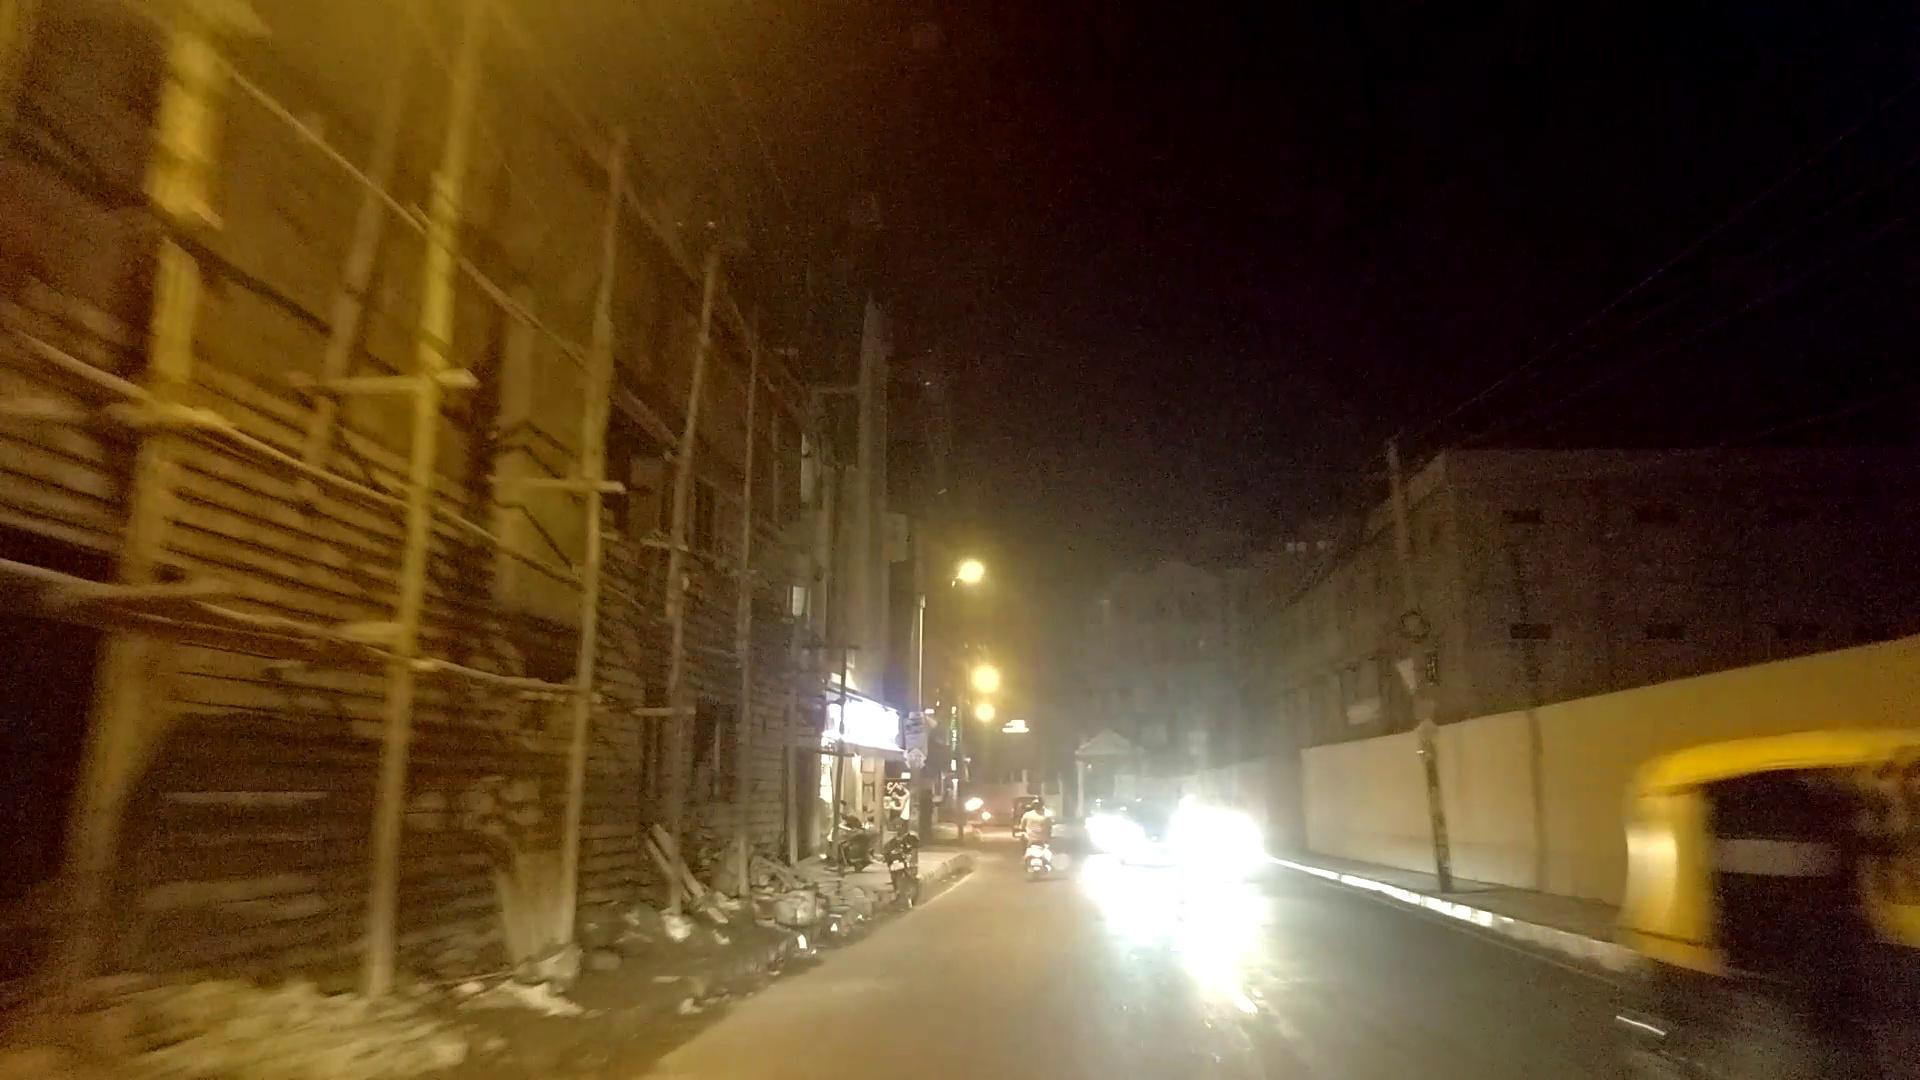on: (800, 372, 1110, 876)
